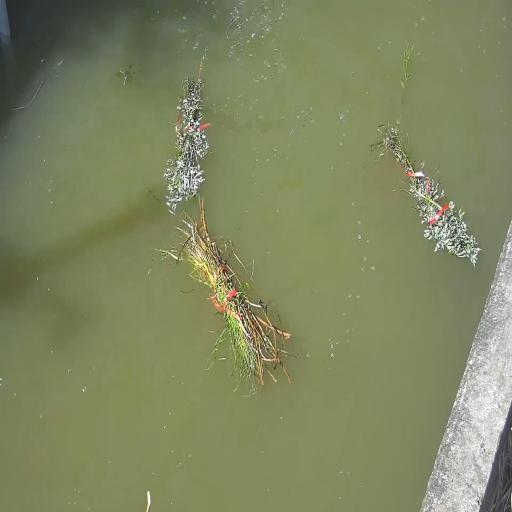twig: (159, 200, 291, 387), (371, 125, 481, 266), (164, 77, 210, 212)
